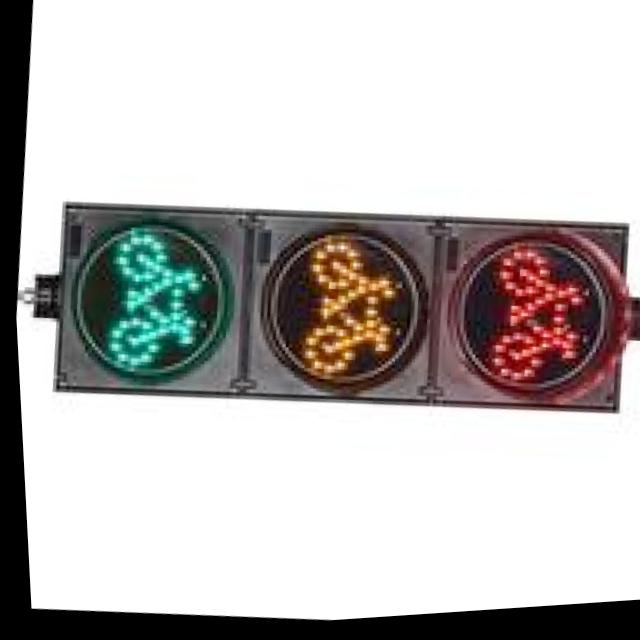green_light: (37, 184, 257, 422)
red_light: (415, 196, 623, 460)
yellow_light: (198, 205, 446, 431)
